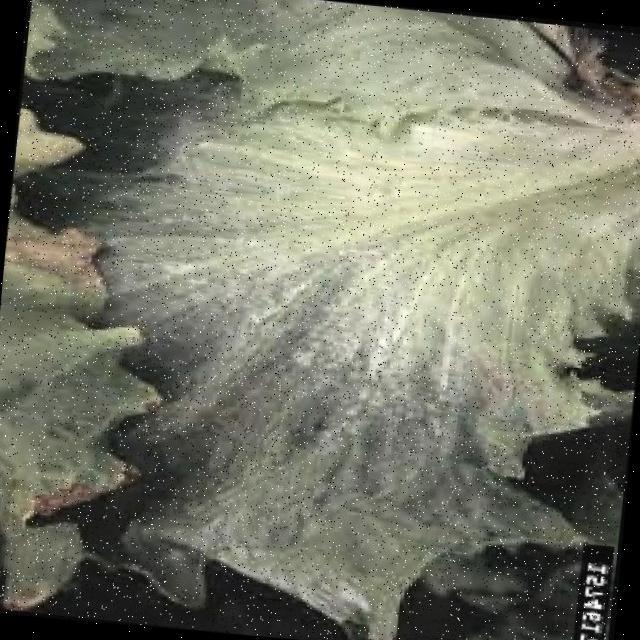Powdery_mildew_on_lettuce: (125, 96, 516, 551)
